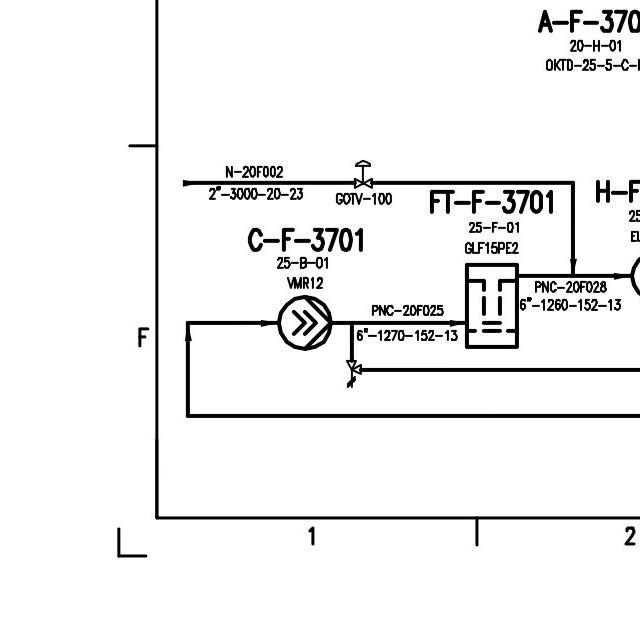C: (275, 290, 337, 352)
FT1: (459, 253, 524, 352)
